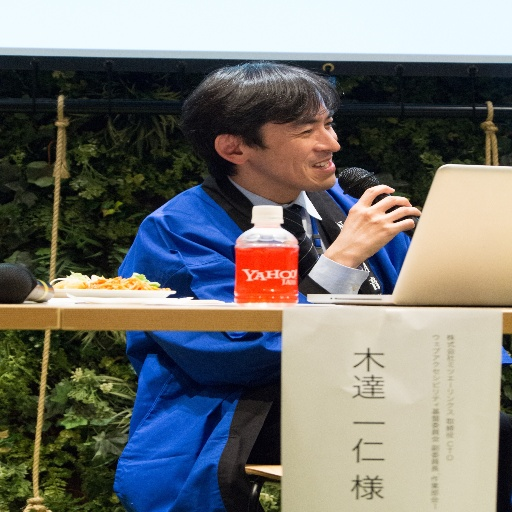hand: (333, 188, 417, 276)
